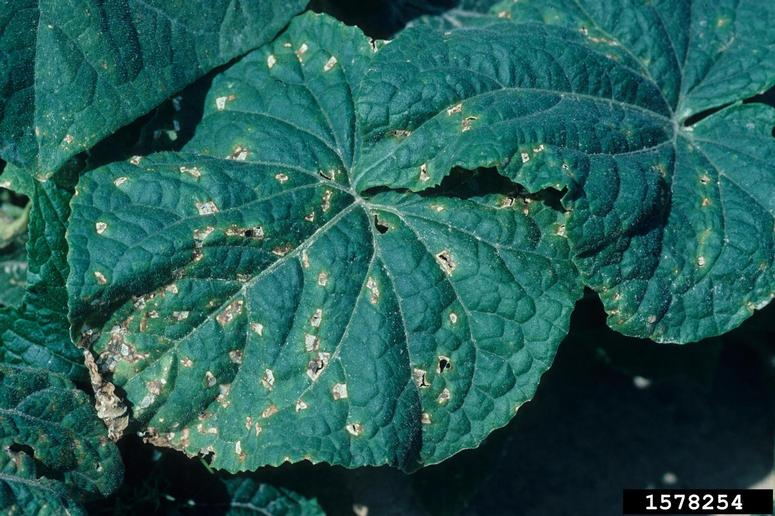Cucumber_AngularLeafSpot: (103, 42, 590, 464)
